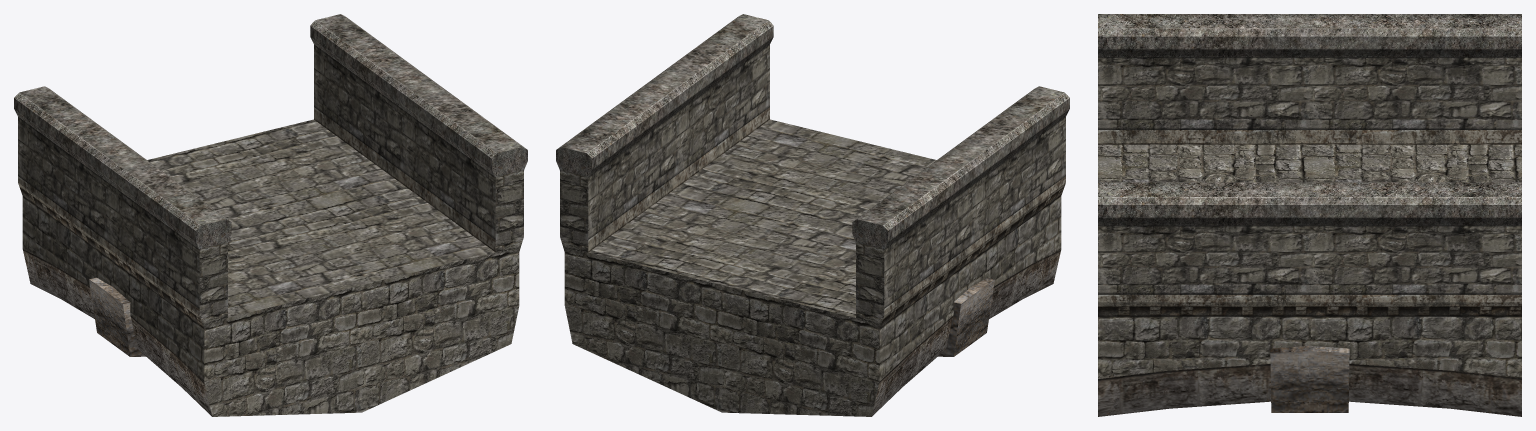
The model's file is StoneBridgeCrown.dae.
3 views of the same model, side by side, from view 1: azimuth 30°, elevation 25°; view 2: azimuth 150°, elevation 25°; view 3: azimuth 270°, elevation 25° (orthographic). The views are drawn at different scales.
Parts seen in each view (by area): view 1: Crown10_Support_sep23_Bridge_Tiling, Crown10_Support_sep23_Bridge; view 2: Crown10_Support_sep23_Bridge_Tiling, Crown10_Support_sep23_Bridge; view 3: Crown10_Support_sep23_Bridge, Crown10_Support_sep23_Bridge_Tiling.
Part boxes in pixels (x1=…): Crown10_Support_sep23_Bridge_Tiling: x1=22, y1=119, x2=519, y2=416; Crown10_Support_sep23_Bridge: x1=14, y1=14, x2=527, y2=416; Crown10_Support_sep23_Bridge_Tiling: x1=564, y1=119, x2=1061, y2=416; Crown10_Support_sep23_Bridge: x1=556, y1=14, x2=1069, y2=416; Crown10_Support_sep23_Bridge: x1=1098, y1=14, x2=1521, y2=416; Crown10_Support_sep23_Bridge_Tiling: x1=1098, y1=144, x2=1521, y2=378.
Size of the model in its own units: 4.24 by 2.75 by 4.
